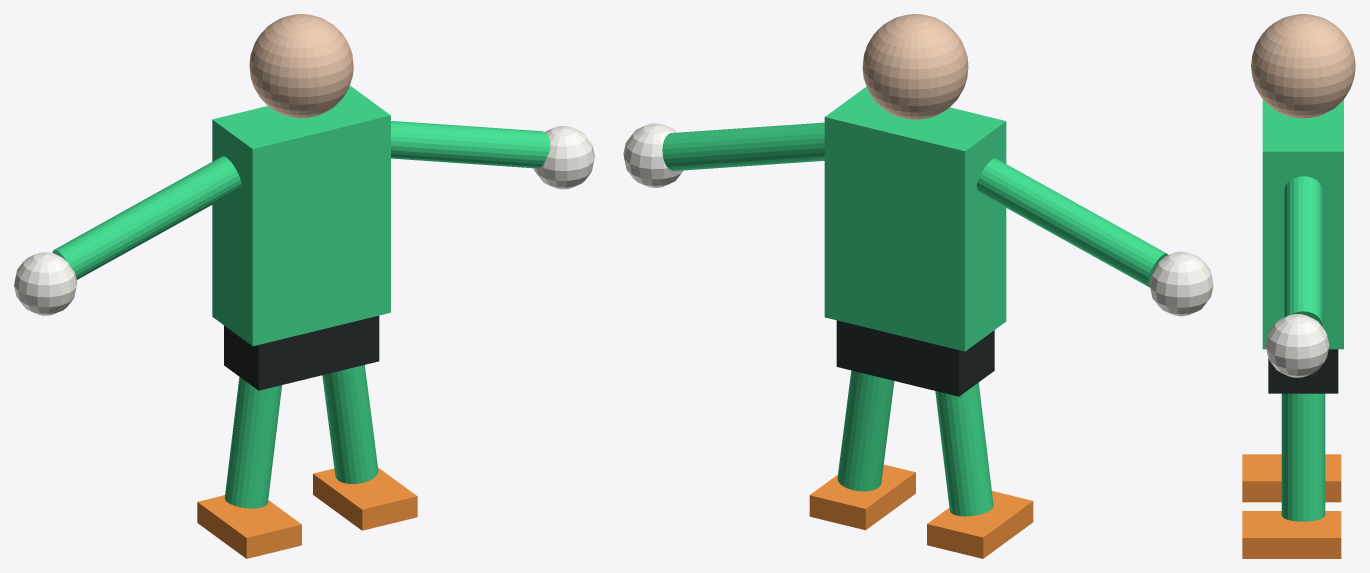
The model's file is goalkeeper.glb.
3 renders of one model, left to right at view 1: azimuth 30°, elevation 25°; view 2: azimuth 150°, elevation 25°; view 3: azimuth 270°, elevation 25°, orthographic.
Parts seen in each view (by area): view 1: Torso, Head, LeftArm, Shorts, RightArm, LeftLeg, RightLeg, LeftBoot, RightBoot, LeftGlove, RightGlove; view 2: Torso, Head, LeftArm, Shorts, RightArm, LeftLeg, RightLeg, LeftBoot, RightBoot, LeftGlove, RightGlove; view 3: Torso, Head, RightLeg, RightArm, RightBoot, RightGlove, LeftBoot, Shorts.
Boxes of the visible parts, bbox=[...] form: Torso: bbox=[212, 85, 390, 346]; Head: bbox=[249, 14, 353, 118]; LeftArm: bbox=[52, 156, 241, 279]; Shorts: bbox=[224, 315, 379, 390]; RightArm: bbox=[391, 121, 550, 168]; LeftLeg: bbox=[224, 377, 281, 508]; RightLeg: bbox=[322, 365, 378, 483]; LeftBoot: bbox=[197, 495, 301, 558]; RightBoot: bbox=[313, 467, 417, 530]; LeftGlove: bbox=[14, 252, 77, 315]; RightGlove: bbox=[533, 126, 594, 189]; Torso: bbox=[824, 87, 1006, 351]; Head: bbox=[862, 14, 968, 119]; LeftArm: bbox=[976, 158, 1168, 287]; Shorts: bbox=[836, 320, 994, 396]; RightArm: bbox=[662, 122, 824, 170]; LeftLeg: bbox=[935, 382, 993, 516]; RightLeg: bbox=[837, 370, 894, 491]; LeftBoot: bbox=[927, 491, 1033, 558]; RightBoot: bbox=[809, 464, 915, 530]; LeftGlove: bbox=[1149, 251, 1213, 316]; RightGlove: bbox=[623, 123, 683, 187]; Torso: bbox=[1262, 99, 1343, 349]; Head: bbox=[1251, 14, 1355, 118]; RightLeg: bbox=[1281, 393, 1325, 521]; RightArm: bbox=[1284, 176, 1322, 325]; RightBoot: bbox=[1242, 511, 1341, 558]; RightGlove: bbox=[1265, 314, 1329, 377]; LeftBoot: bbox=[1242, 454, 1341, 502]; Shorts: bbox=[1268, 349, 1338, 393].
Size of the model in its own units: 2.28 by 1.89 by 0.39.
